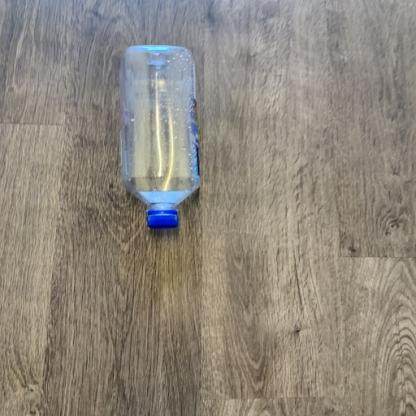trash: (119, 45, 202, 228)
